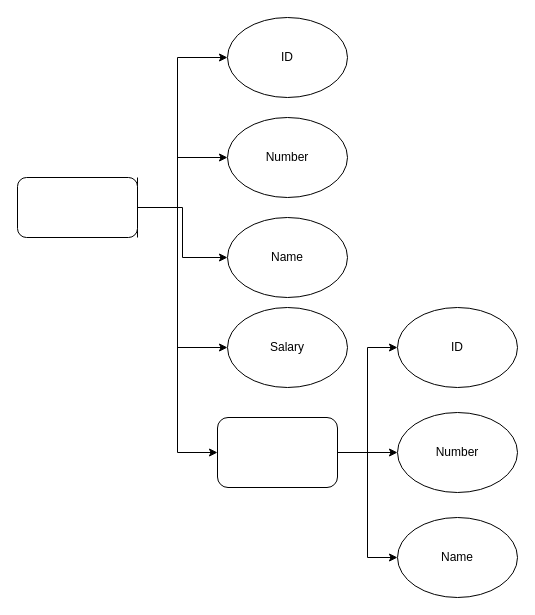
Some shapes in this 535 by 615 pixel diagram are drawn without their labels. Each missing label, with the centre of its shape:
"Department" belongs at (277,452).
"Employee" belongs at (77,207).
